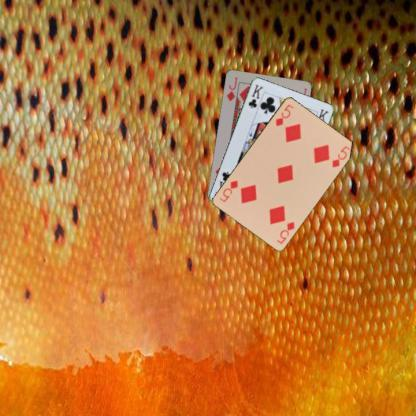5d: (274, 219, 296, 245), (272, 102, 294, 127)
Jd: (224, 75, 238, 102)
Kc: (246, 82, 264, 109)
